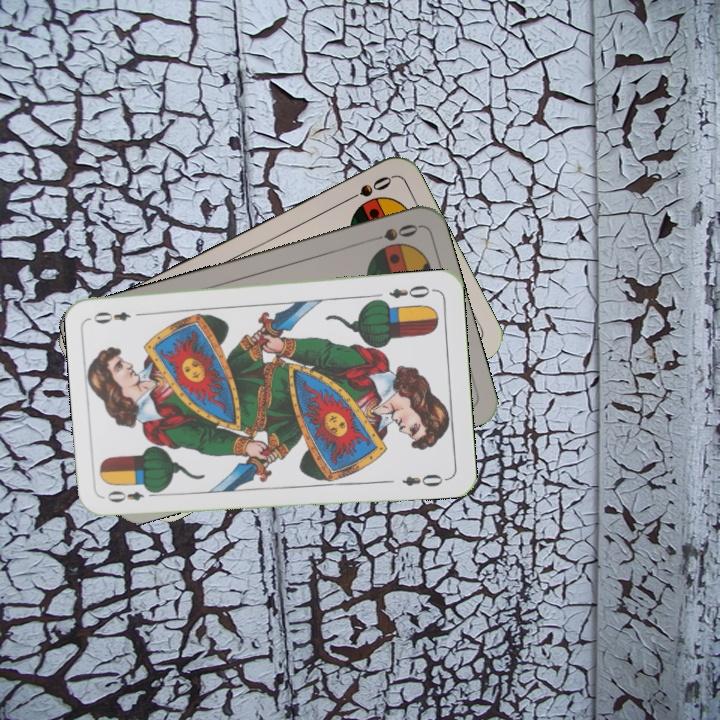EO: (104, 484, 161, 505), (385, 281, 437, 301)
SO: (339, 172, 395, 206), (362, 220, 421, 245)
